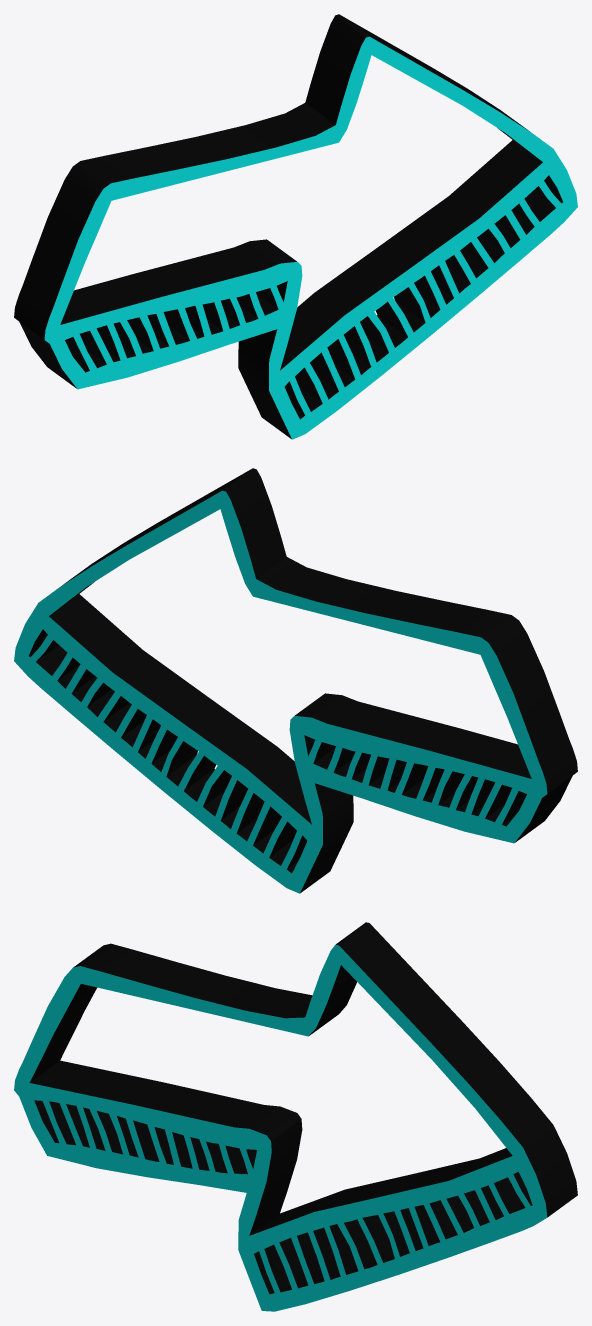
Rendered from Arrow.fbx.
3 views of the same model, one above another, from view 1: azimuth 30°, elevation 25°; view 2: azimuth 150°, elevation 25°; view 3: azimuth 330°, elevation 25° (orthographic).
Visible parts, largest first — view 1: node_id345 (×42); view 2: node_id345 (×45); view 3: node_id345 (×48).
Part boxes in pixels (x1,y1,x2,y2): node_id345 (×42): (19,24,577,439); node_id345 (×45): (36,478,572,893); node_id345 (×48): (19,922,577,1310).
Bounding box in the file's own units: 0.512 × 0.3525 × 0.0508.
